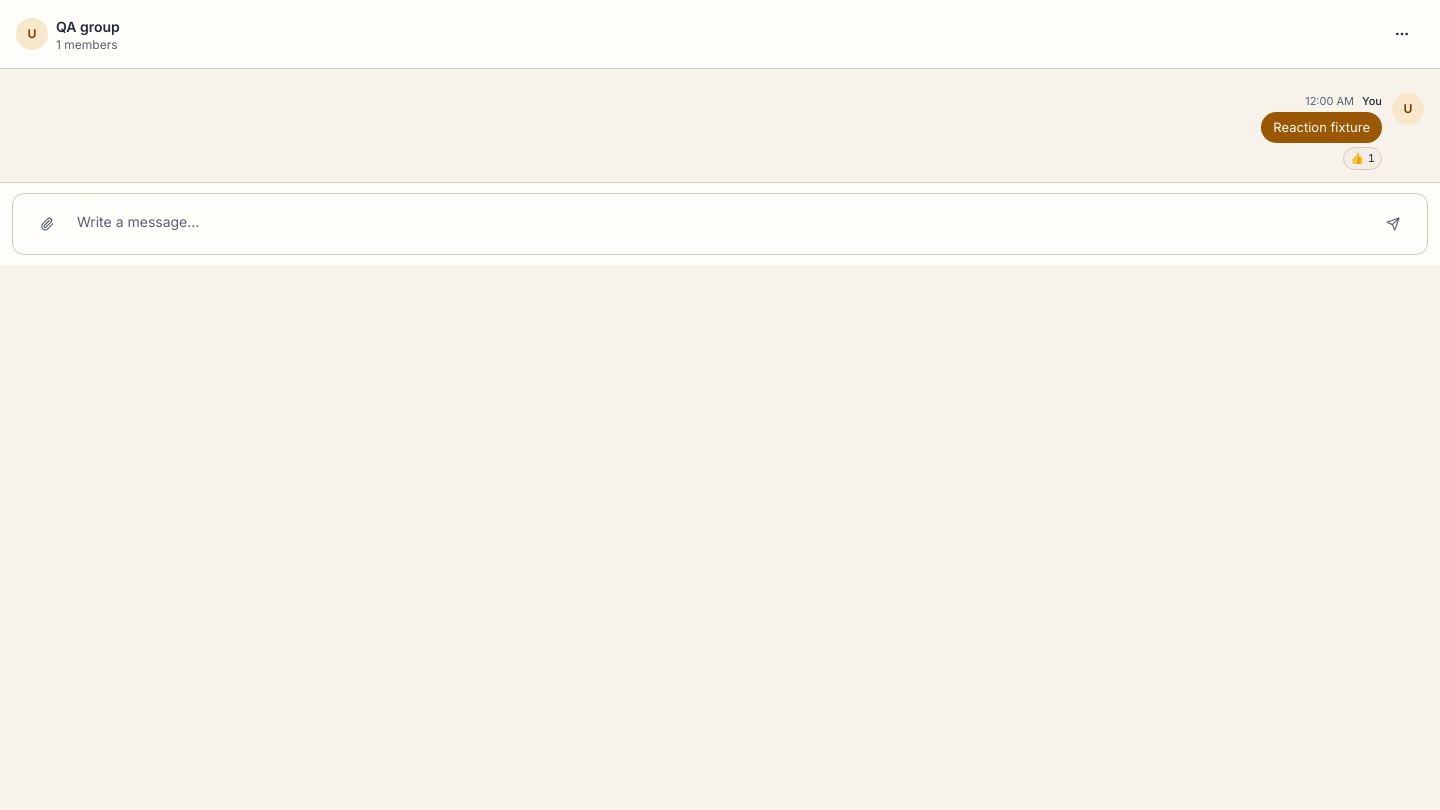
it: opens group details from the group header while retaining the thread
Check: the text "Reaction fixture" is shown, box [1261,112,1382,143]
Click the button named "More conversation actions".
click(1402, 34)  # box [1380,12,1424,56]
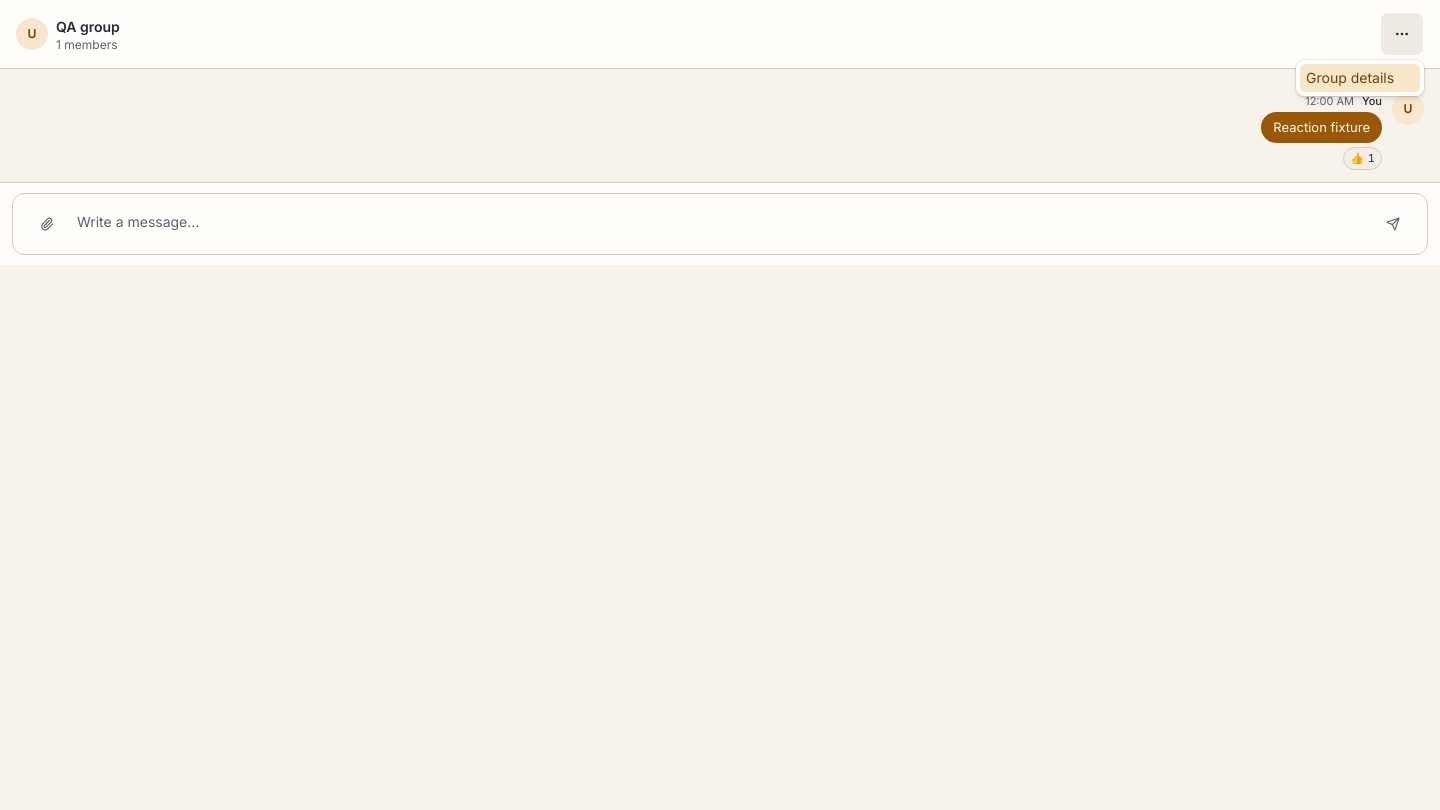
Click the menu item "Group details".
click(1360, 78)  # box [1300,64,1420,92]
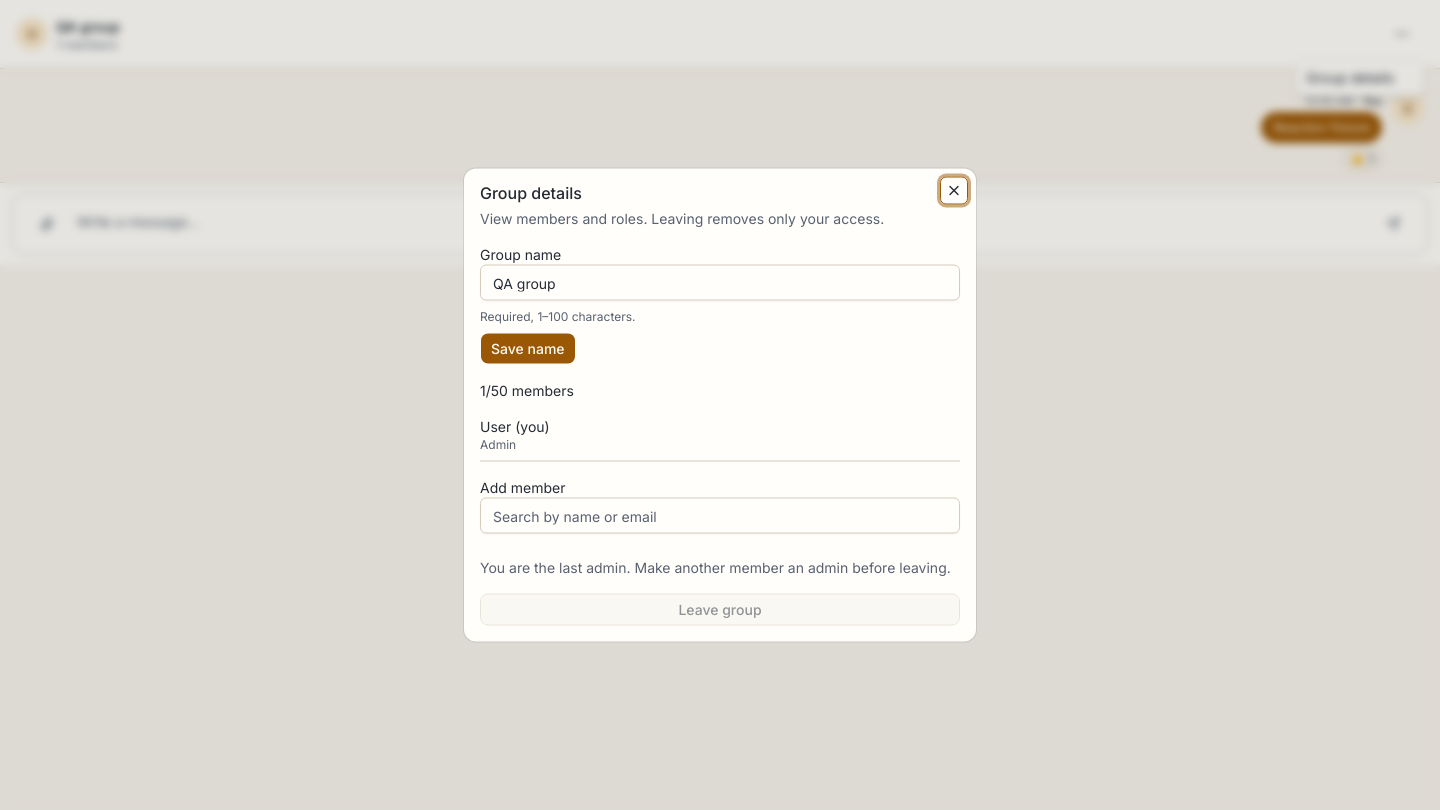
Check: the dialog "Group details" is shown, box [464,168,976,642]
Check: the text "Admin" is shown, box [480,436,516,452]
